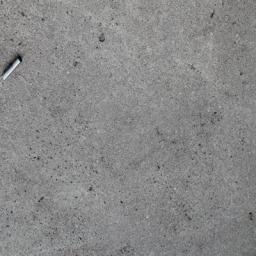FOD: (3, 54, 26, 87)
